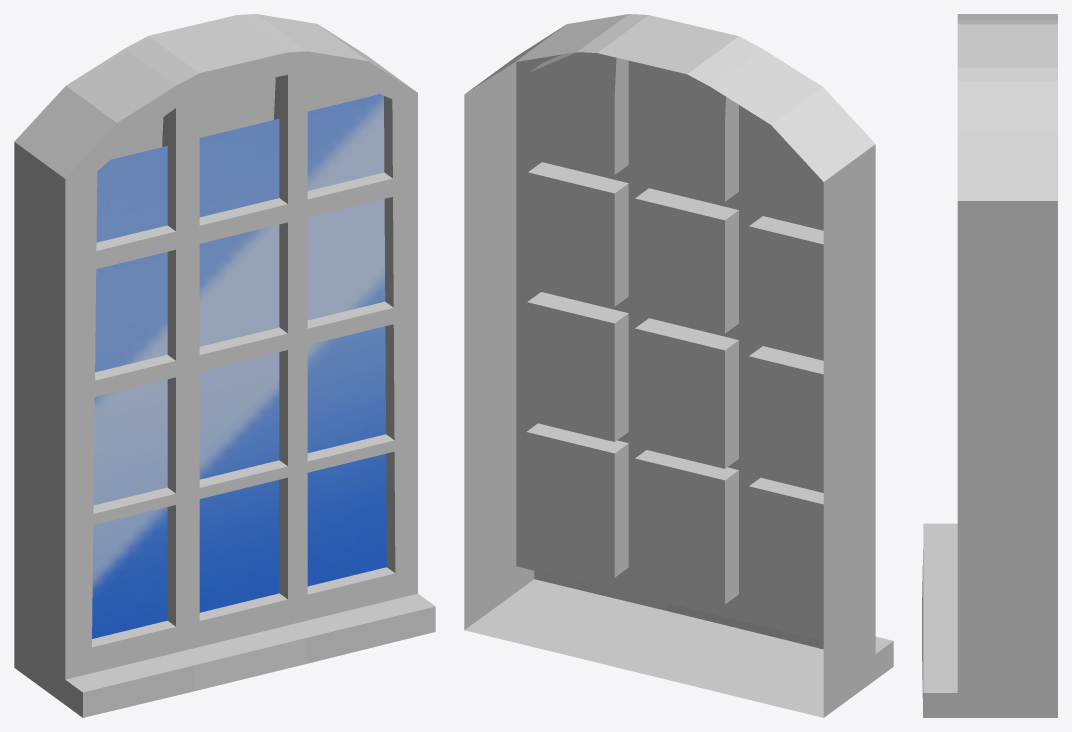
Rendered from window_09.fbx.
The picture shows the model from 3 angles, left to right: view 1: azimuth 30°, elevation 25°; view 2: azimuth 150°, elevation 25°; view 3: azimuth 270°, elevation 25°; orthographic projection. The views are drawn at different scales.
Parts seen in each view (by area): view 1: pPlane8_Ext_1, pPlane8; view 2: pPlane8_Ext_1; view 3: pPlane8_Ext_1.
Boxes of the visible parts, x1,y1,x2,y2 form: pPlane8_Ext_1: (14, 14, 435, 717); pPlane8: (92, 94, 386, 638); pPlane8_Ext_1: (464, 14, 893, 717); pPlane8_Ext_1: (922, 14, 1057, 717).
Bounding box in the file's own units: 128 × 208 × 43.51.
